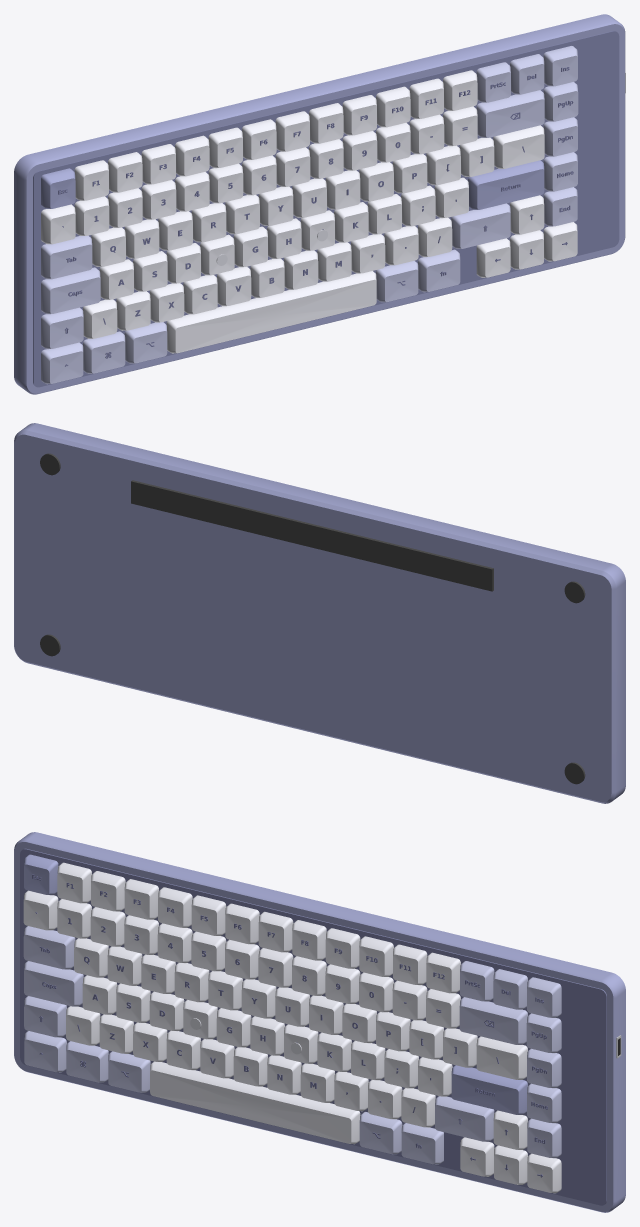
File: flow2_84_nebula.glb
3 renders of one model, top to bottom at view 1: azimuth 30°, elevation 25°; view 2: azimuth 150°, elevation 25°; view 3: azimuth 330°, elevation 25°, orthographic.
Parts seen in each view (by area): view 1: keycaps_alpha, keycaps_mod, case, key_well, keycaps_accent, legends; view 2: case, feet; view 3: keycaps_alpha, keycaps_mod, case, key_well, keycaps_accent, legends.
Part boxes in pixels (x1,y1,x2,y2): keycaps_alpha: (41, 70, 577, 353); keycaps_mod: (41, 46, 578, 384); case: (14, 14, 625, 394); key_well: (33, 31, 619, 387); keycaps_accent: (41, 160, 544, 209); legends: (58, 67, 573, 366); case: (14, 423, 625, 803); feet: (40, 453, 585, 784); keycaps_alpha: (23, 862, 561, 1193); keycaps_mod: (23, 926, 561, 1164); case: (14, 832, 625, 1212); key_well: (20, 848, 606, 1205); keycaps_accent: (24, 854, 527, 1114); legends: (32, 874, 547, 1177).
Bounding box in the file's own units: 342 × 126 × 21.51.
